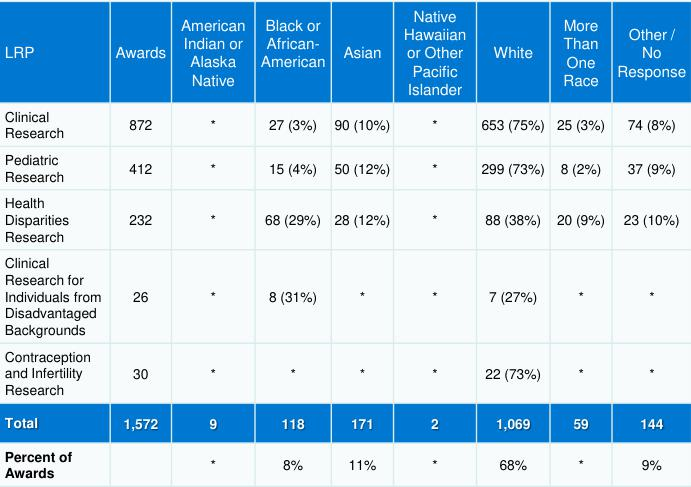table: (3, 4, 685, 481)
table column: (3, 4, 107, 481), (172, 4, 252, 481), (472, 4, 549, 481), (252, 4, 328, 481), (396, 4, 472, 481), (610, 4, 685, 481), (328, 4, 396, 481), (107, 4, 172, 481), (549, 4, 610, 481)
table column header: (3, 4, 685, 102)
table row: (3, 4, 685, 102), (3, 248, 685, 341), (3, 341, 685, 405), (3, 188, 685, 248), (3, 102, 685, 145), (3, 145, 685, 188), (3, 438, 685, 481), (3, 405, 685, 438)
